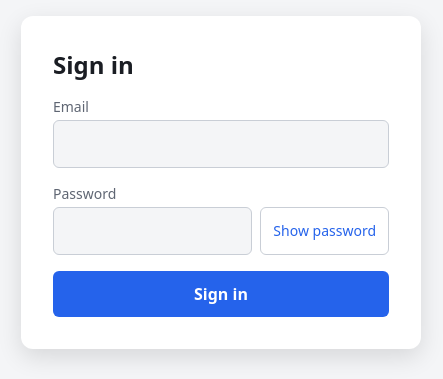
Test: login and logout › successful_login_shows_welcome_with_email
Type "alice@example.com" into the field labelled "Email".
click(221, 144); type("alice@example.com")  # box [53,120,389,168]
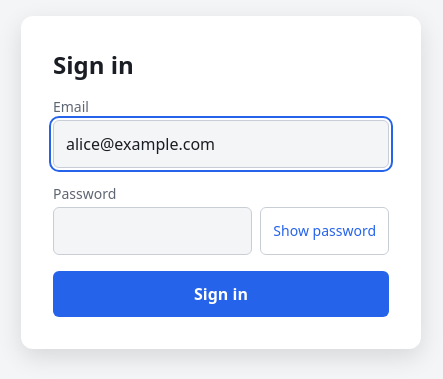
Type "Password123!" into the password field labelled "Password".
click(153, 230); type("Password123!")  # box [53,206,252,254]
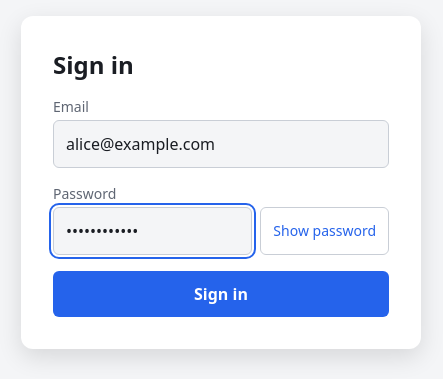
Click the button "Sign in".
click(221, 294)  # box [53,270,389,316]
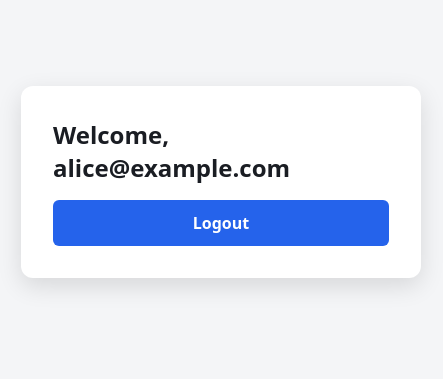
Check: the heading "Welcome, alice@example.com" is shown, box [53,118,290,184]
